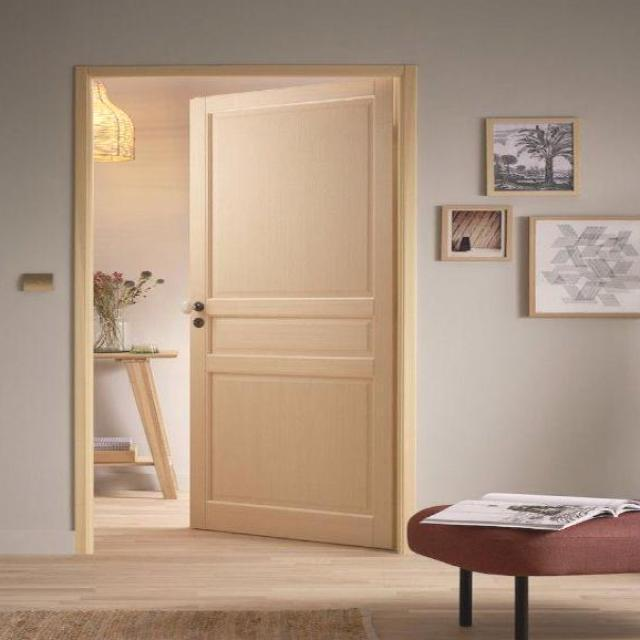door: (186, 76, 399, 550)
